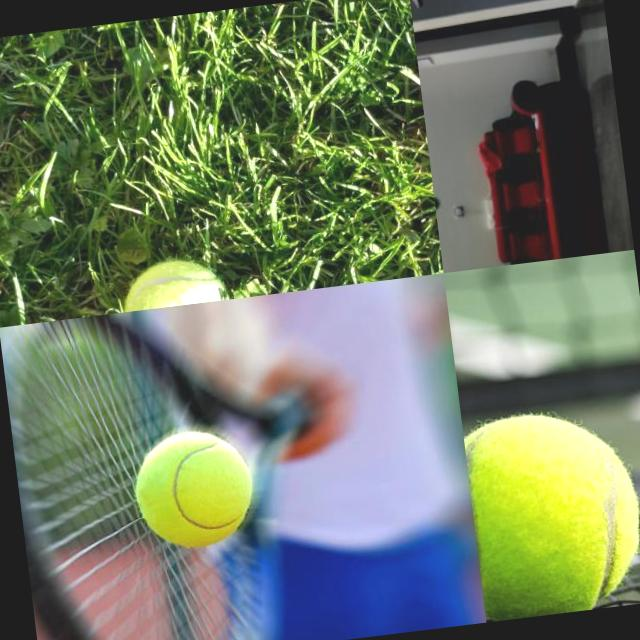Tennis Ball: (461, 400, 640, 621), (128, 422, 260, 554), (115, 253, 232, 311), (434, 196, 439, 211)
